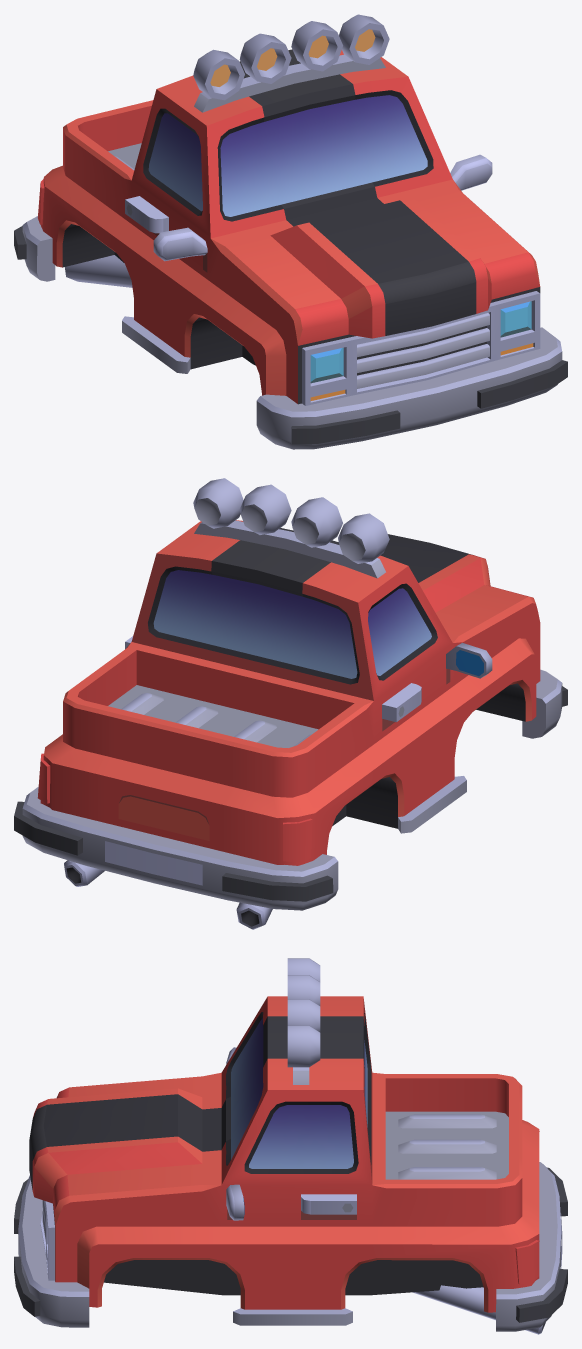
Rendered from PickupTruck_Red.fbx.
The picture shows the model from 3 angles, top to bottom: view 1: azimuth 30°, elevation 25°; view 2: azimuth 150°, elevation 25°; view 3: azimuth 270°, elevation 25°; orthographic projection. The views are drawn at different scales.
Visible parts, largest first — view 1: Car_2_Enemy; view 2: Car_2_Enemy; view 3: Car_2_Enemy.
Boxes of the visible parts, bbox=[...] form: Car_2_Enemy: bbox=[14, 14, 567, 449]; Car_2_Enemy: bbox=[14, 478, 567, 929]; Car_2_Enemy: bbox=[14, 958, 567, 1334].
Bounding box in the file's own units: 3.01 × 2.75 × 4.52.
